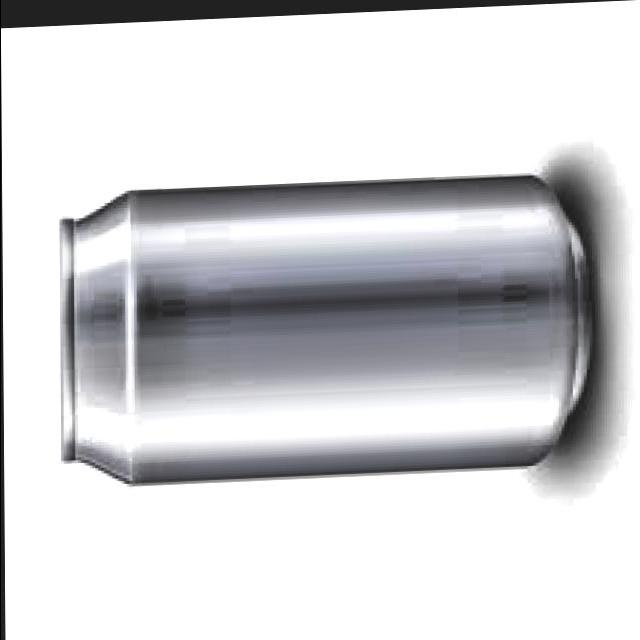Aluminum Can: (44, 157, 613, 504)
